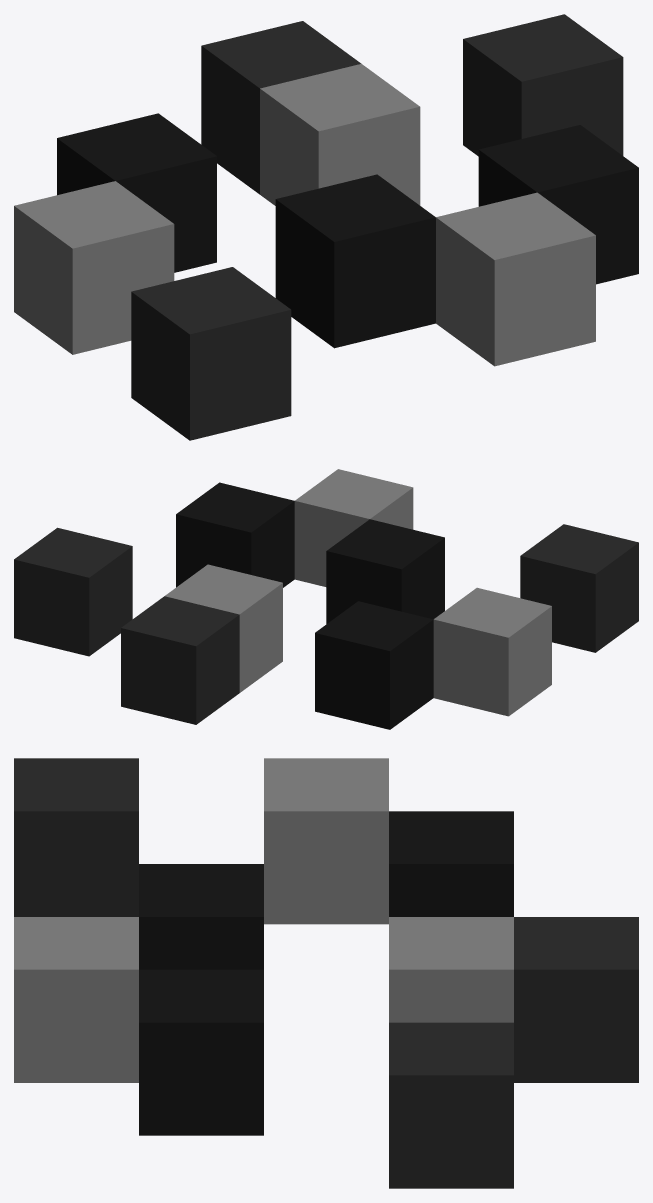
The model's file is Rocks.fbx.
3 renders of one model, top to bottom at view 1: azimuth 30°, elevation 25°; view 2: azimuth 150°, elevation 25°; view 3: azimuth 270°, elevation 25°, orthographic. The views are drawn at different scales.
Visible parts, largest first — view 1: Enviroment 2.009; view 2: Enviroment 2.009; view 3: Enviroment 2.009.
Boxes of the visible parts, box(x1,y1,x2,y2) form: Enviroment 2.009: box(14, 14, 638, 440); Enviroment 2.009: box(14, 469, 638, 729); Enviroment 2.009: box(14, 758, 638, 1188).
Size of the model in its own units: 0.6 by 0.1 by 0.5.
